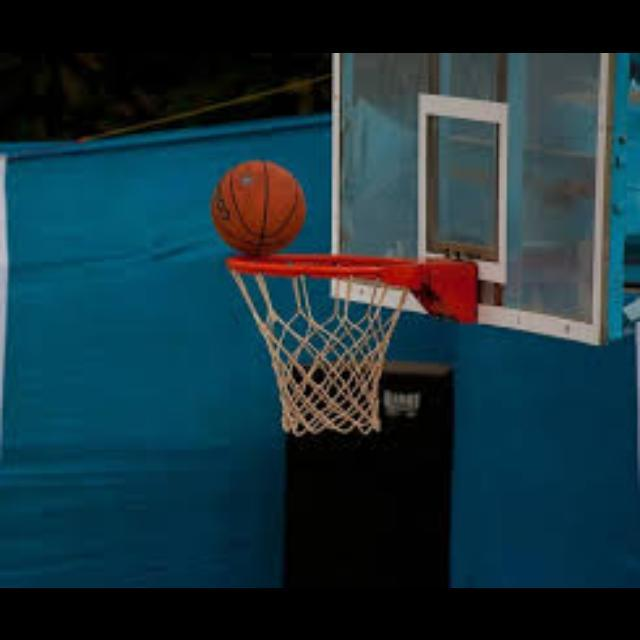basketball: (214, 159, 304, 251)
rim: (227, 253, 415, 433)
